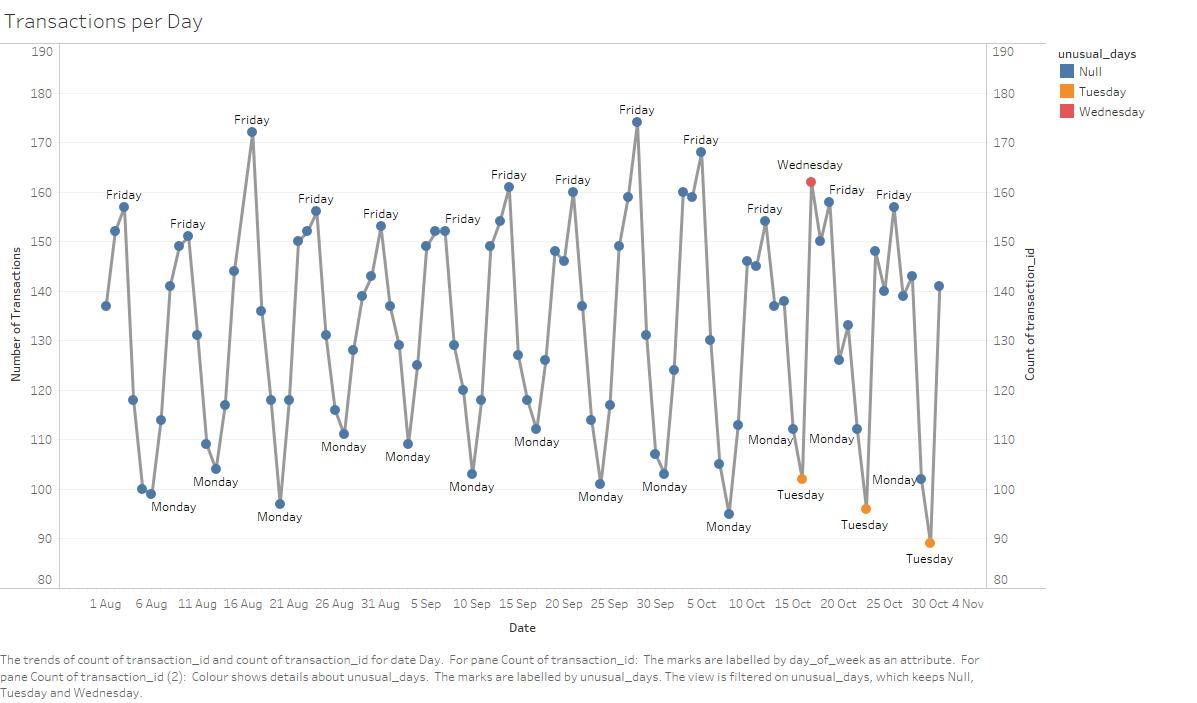

The dashboard page shown, as its layout file describes it:
{"tool":"tableau","page":{"name":"Dashboard 3","canvas":[1000,800],"ordinal":0},"visuals":[{"type":"worksheet","title":"Transactions per Day","mark":"Automatic","rows":["transaction_id","transaction_id"],"cols":["date"],"box":[8,8,984,784]}]}

Visuals, with their boxes on the page's 1000x800 design canvas (x1, y1, x2, y2). These are canvas units, not pixel positions in the 1197x703 screenshot, which may show the page scaled, cropped or inside an application window:
"Transactions per Day" worksheet: crop(8, 8, 992, 792)
